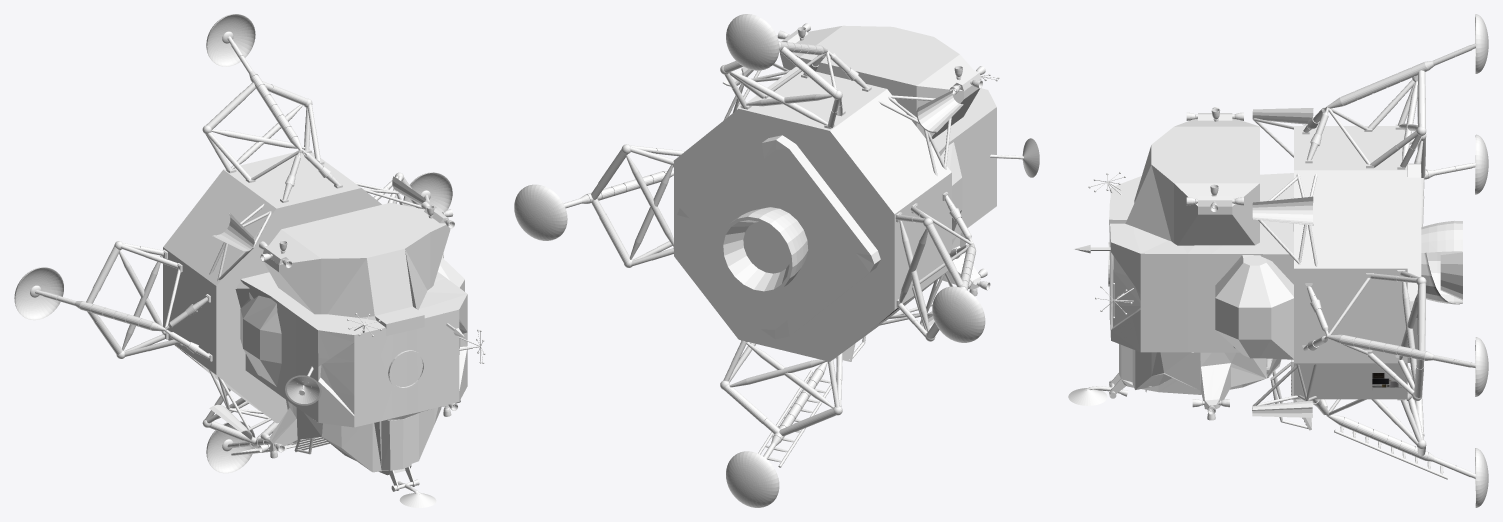
The model's file is lander.obj.
The picture shows the model from 3 angles, left to right: view 1: azimuth 30°, elevation 25°; view 2: azimuth 150°, elevation 25°; view 3: azimuth 270°, elevation 25°; orthographic projection. The views are drawn at different scales.
Size of the model in its own units: 6.43 by 6.43 by 5.01.
1 material, 1 textured.
